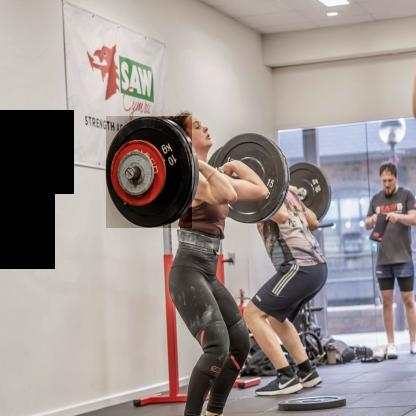barbell: (107, 117, 193, 229)
